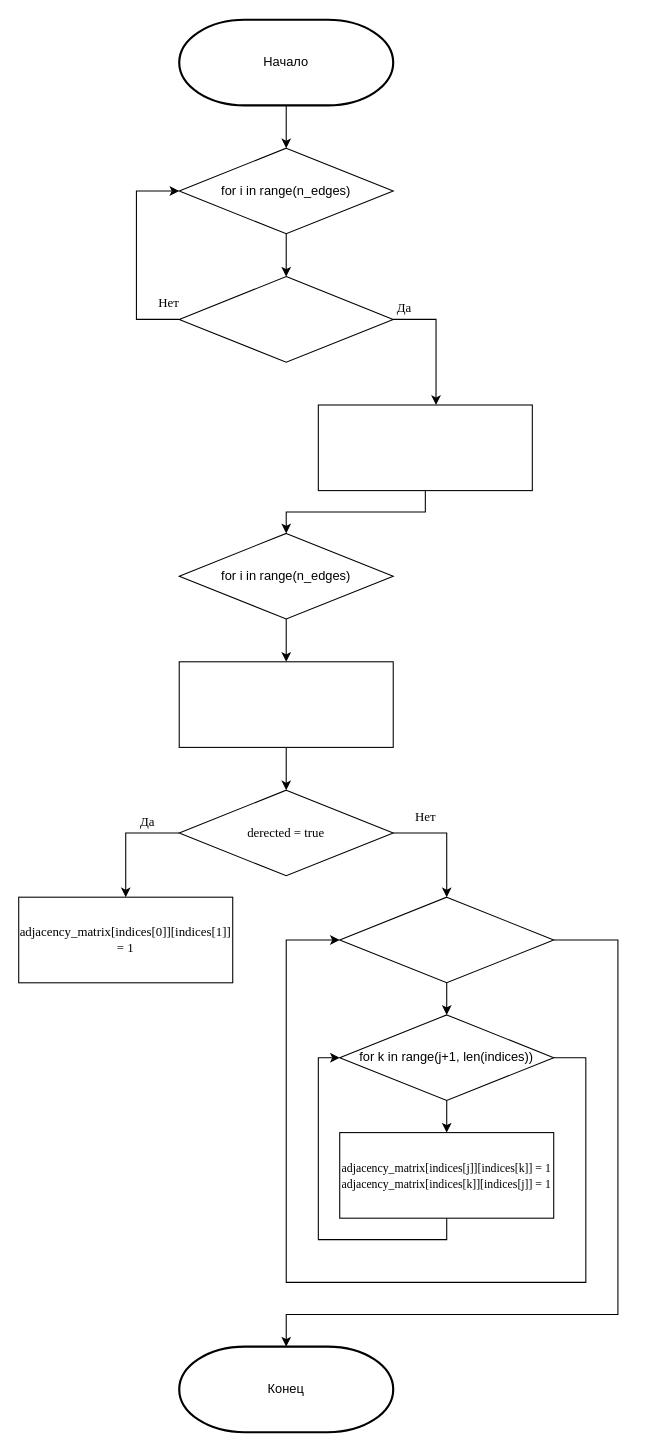
Image size: 645x1451. Some labels were removed from this diagram. The centre of each missing label's shape, as x and y in pixels:
"directed = true" goes at point 424,447.
"for j in range(len(indices))" goes at point 446,939.
"if incidence_matrix[i].count(1) > 1" goes at point 285,319.
"indices = [j for j, x in enumerate(incidence_matrix[i]) if x==1]" goes at point 285,704.
